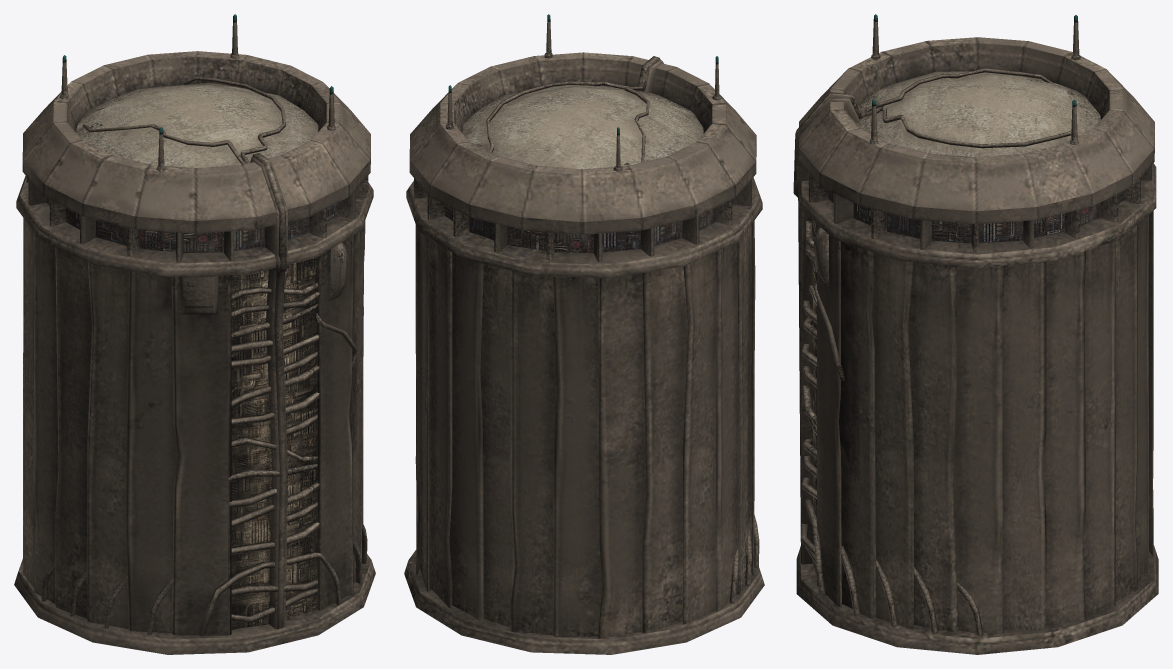
File: turbine_large.dae
The picture shows the model from 3 angles, left to right: view 1: azimuth 30°, elevation 25°; view 2: azimuth 150°, elevation 25°; view 3: azimuth 270°, elevation 25°; orthographic projection. The views are drawn at different scales.
Visible parts, largest first — view 1: turbine_robot_large; view 2: turbine_robot_large; view 3: turbine_robot_large.
Boxes of the visible parts, box(x1,y1,x2,y2) form: turbine_robot_large: box(14, 14, 375, 654); turbine_robot_large: box(404, 14, 764, 654); turbine_robot_large: box(793, 14, 1158, 654).
Bounding box in the file's own units: 3.61 × 5.59 × 3.55.
